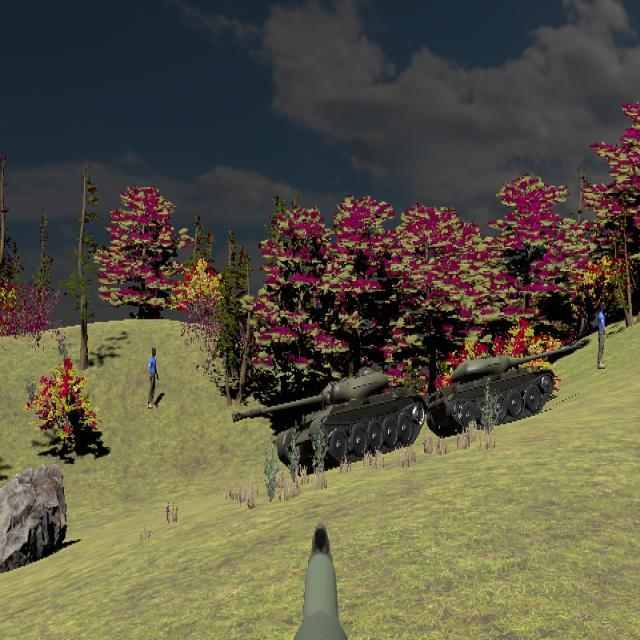Human: (597, 299, 608, 370), (147, 346, 159, 409)
Tank: (233, 367, 423, 476), (424, 341, 584, 437)
